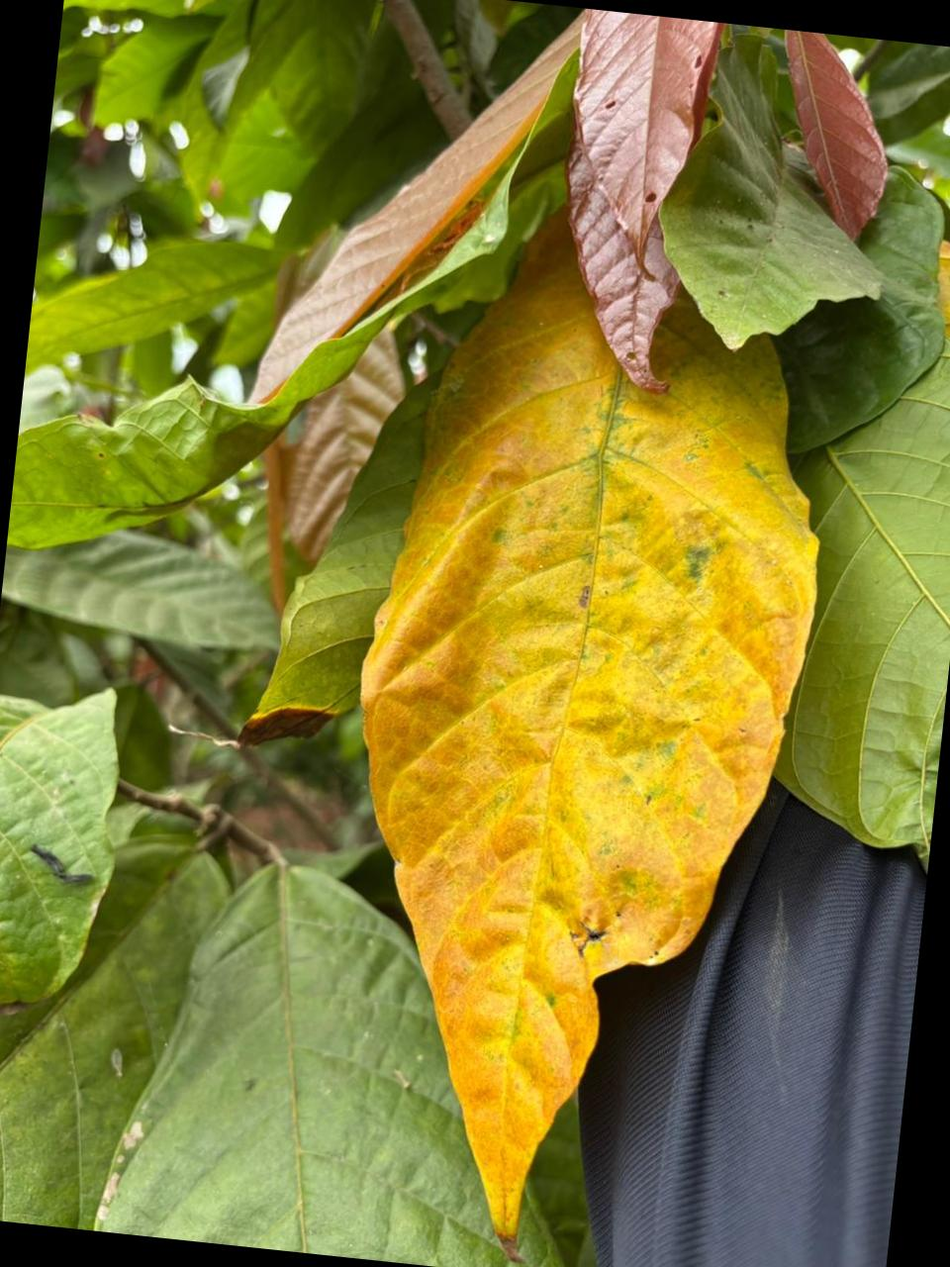Fosforo: (363, 213, 818, 1237)
